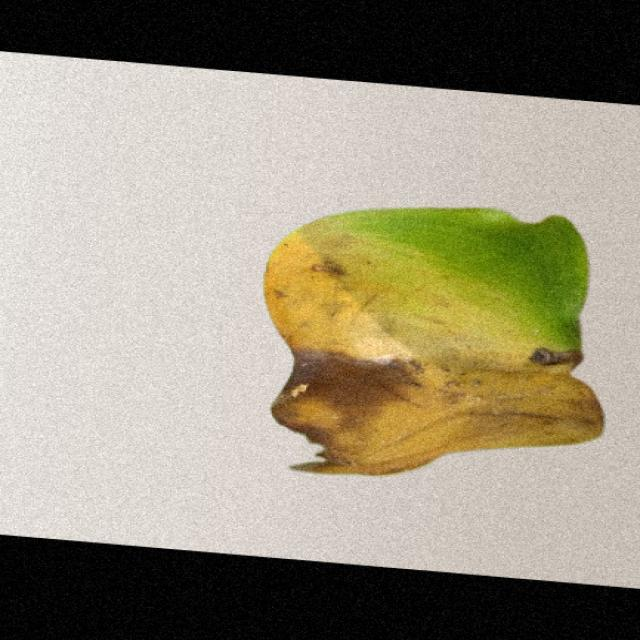daun berpenyakit kuning: (265, 209, 603, 474)
